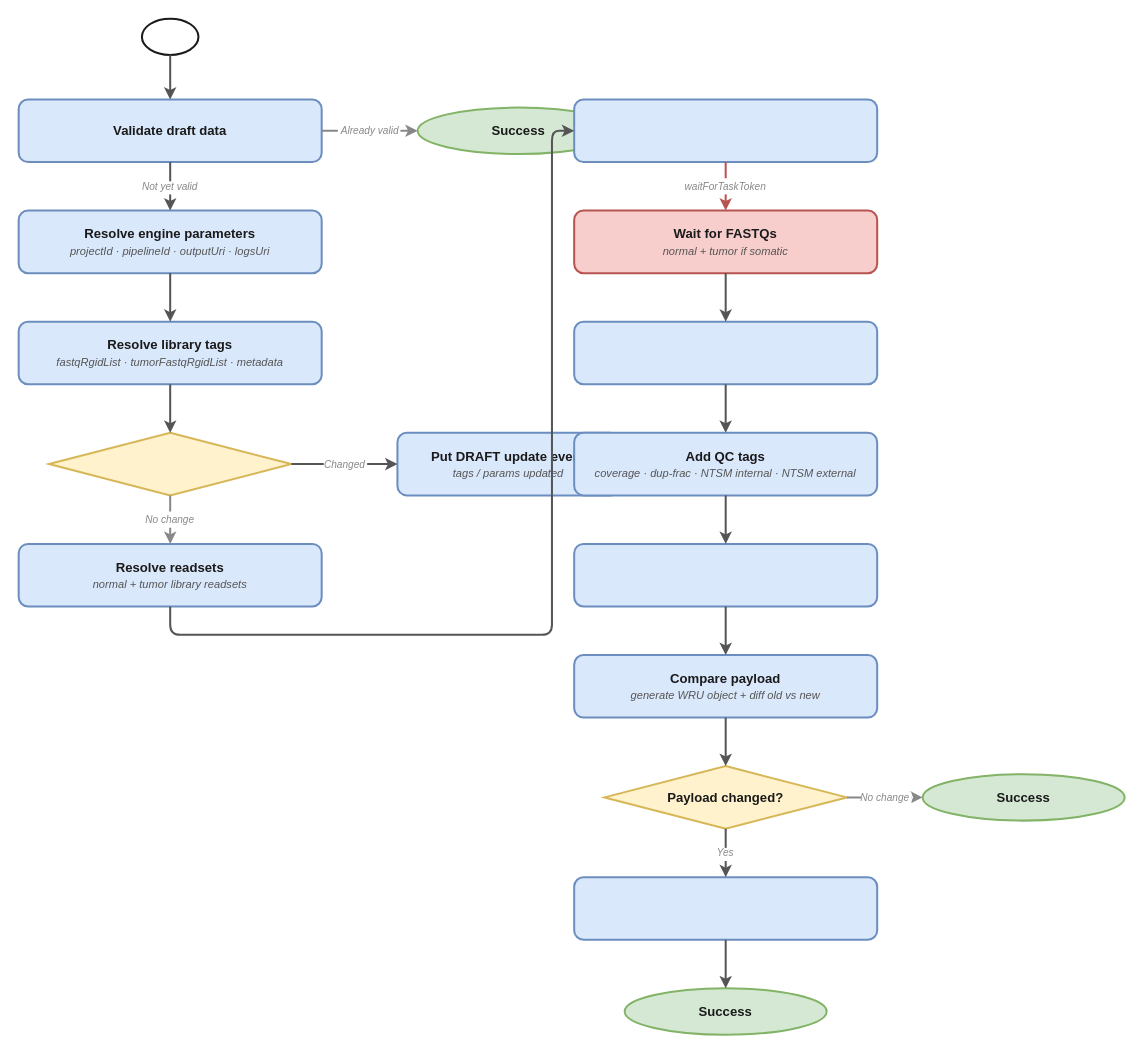
Image size: 1142x1052. Some labels were removed from this diagram. The shapes that lost their labels are listed below. From the top down, each one's centre as x and y in pixels, then its label:
At point 169,36: "Start".
At point 725,130: "Resolve inputs normal + tumor sequence data + default params".
At point 725,352: "Add reference data germline · somatic · ORA".
At point 169,463: "Tags or engine params changed?".
At point 725,574: "Add downsampling somatic only, if applicable".
At point 725,908: "Put DRAFT update event fully populated payload".
